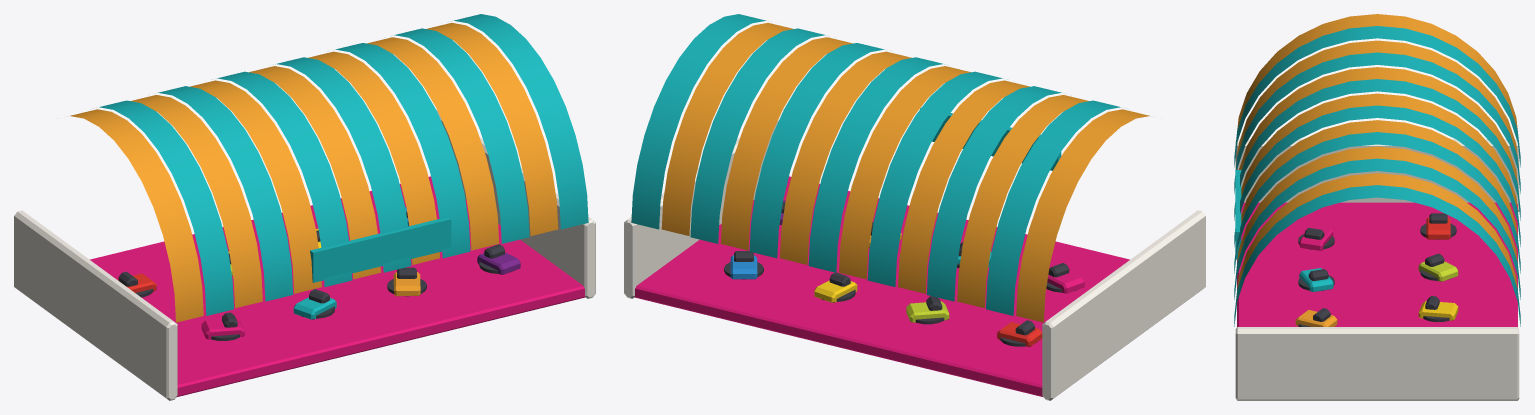
The model's file is bumper-car-pavilion.glb.
3 views of the same model, side by side, from view 1: azimuth 30°, elevation 25°; view 2: azimuth 150°, elevation 25°; view 3: azimuth 270°, elevation 25° (orthographic). The views are drawn at different scales.
Visible parts, largest first — view 1: bumper_kerb, vault_post_0, vault_slice_11, vault_slice_13, vault_slice_1, vault_slice_3, vault_slice_0, vault_slice_10, vault_slice_12, vault_slice_2, vault_slice_9, vault_slice_4 (+10 smaller); view 2: bumper_kerb, vault_post_0, vault_slice_11, vault_slice_7, vault_slice_13, vault_slice_1, vault_slice_9, vault_slice_5, vault_slice_3, vault_slice_0, vault_slice_4, vault_slice_8 (+10 smaller); view 3: bumper_kerb, vault_post_1, vault_slice_11, vault_slice_1, vault_slice_13, vault_slice_3, vault_slice_9, vault_slice_7, vault_slice_5, vault_slice_12, vault_slice_10, vault_slice_2 (+12 smaller).
Boxes of the visible parts, box(x1,y1,x2,y2) form: bumper_kerb: box(90, 176, 585, 397); vault_post_0: box(14, 210, 177, 400); vault_slice_11: box(394, 28, 529, 243); vault_slice_13: box(454, 14, 588, 229); vault_slice_1: box(99, 100, 233, 315); vault_slice_3: box(158, 86, 293, 301); vault_slice_0: box(70, 109, 203, 322); vault_slice_10: box(367, 37, 499, 250); vault_slice_12: box(426, 23, 558, 235); vault_slice_2: box(130, 95, 262, 308); vault_slice_9: box(335, 43, 470, 258); vault_slice_4: box(190, 80, 321, 293); bumper_kerb: box(634, 176, 1129, 397); vault_post_0: box(1042, 210, 1205, 400); vault_slice_11: box(690, 28, 825, 243); vault_slice_7: box(808, 57, 944, 272); vault_slice_13: box(631, 14, 765, 229); vault_slice_1: box(986, 100, 1120, 315); vault_slice_9: box(749, 43, 884, 258); vault_slice_5: box(867, 71, 1002, 286); vault_slice_3: box(926, 86, 1061, 301); vault_slice_0: box(1016, 109, 1149, 322); vault_slice_4: box(898, 80, 1029, 293); vault_slice_8: box(780, 51, 911, 264); bumper_kerb: box(1237, 202, 1517, 326); vault_post_1: box(1235, 327, 1519, 400); vault_slice_11: box(1234, 158, 1520, 299); vault_slice_1: box(1234, 26, 1520, 167); vault_slice_13: box(1234, 185, 1520, 326); vault_slice_3: box(1234, 52, 1520, 193); vault_slice_9: box(1234, 132, 1520, 273); vault_slice_7: box(1234, 105, 1520, 246); vault_slice_5: box(1234, 79, 1520, 220); vault_slice_12: box(1237, 173, 1517, 288); vault_slice_10: box(1237, 146, 1517, 261); vault_slice_2: box(1237, 40, 1517, 155).
Bounding box in the file's own units: 37.4 × 18.17 × 23.44.
